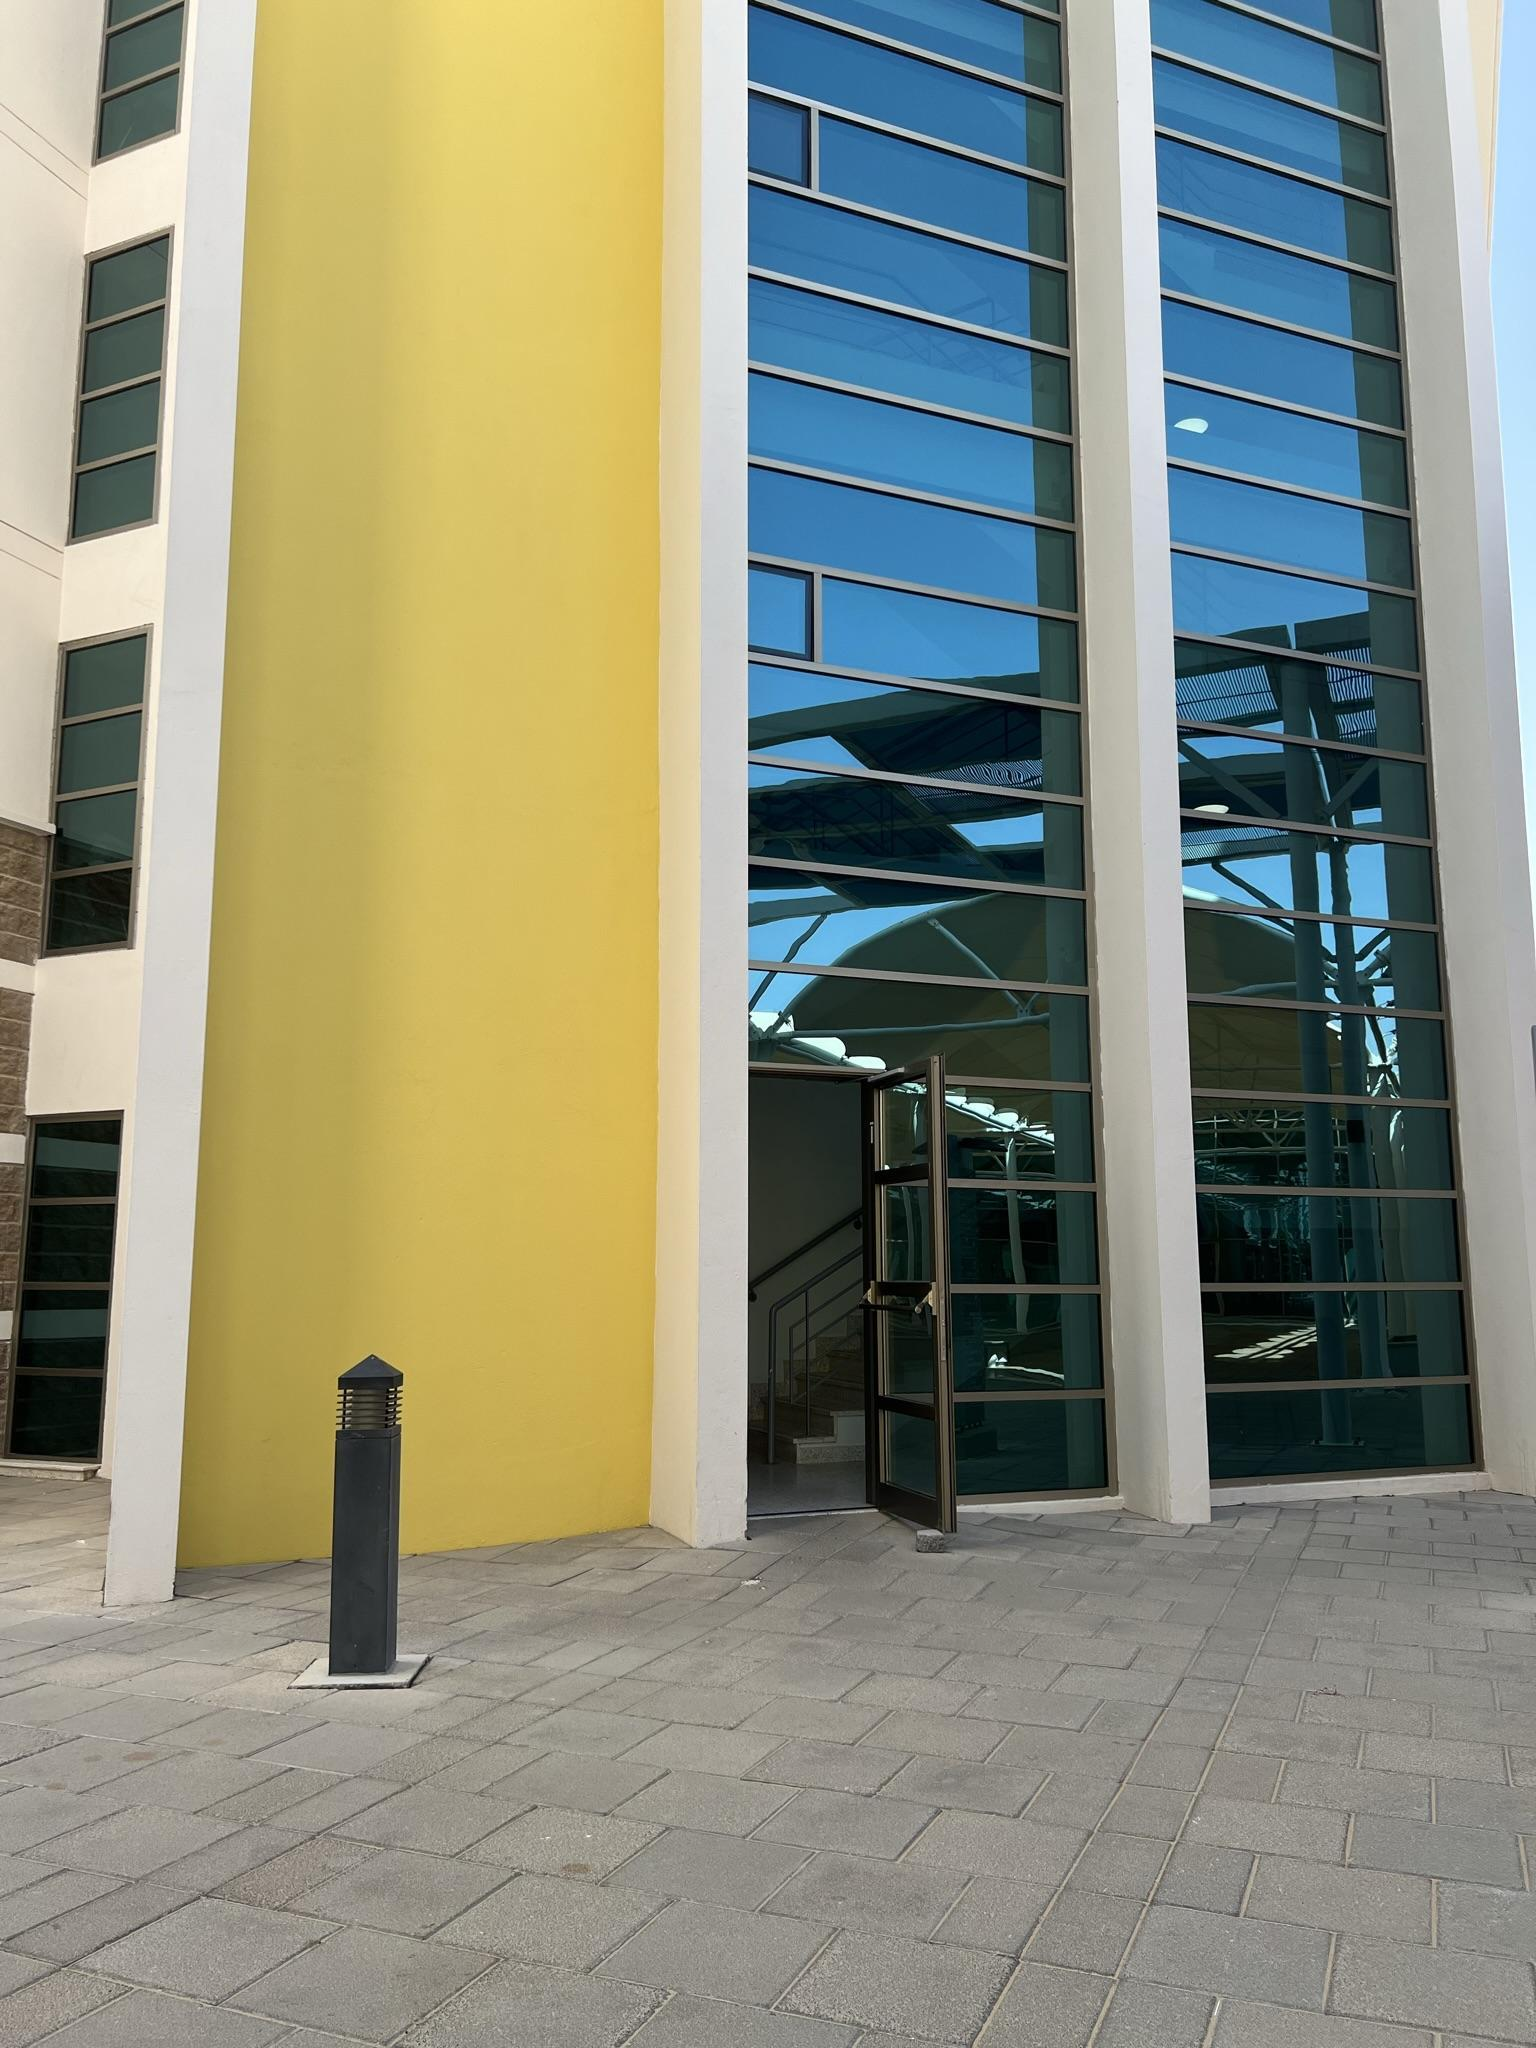door: (865, 1063, 957, 1534)
